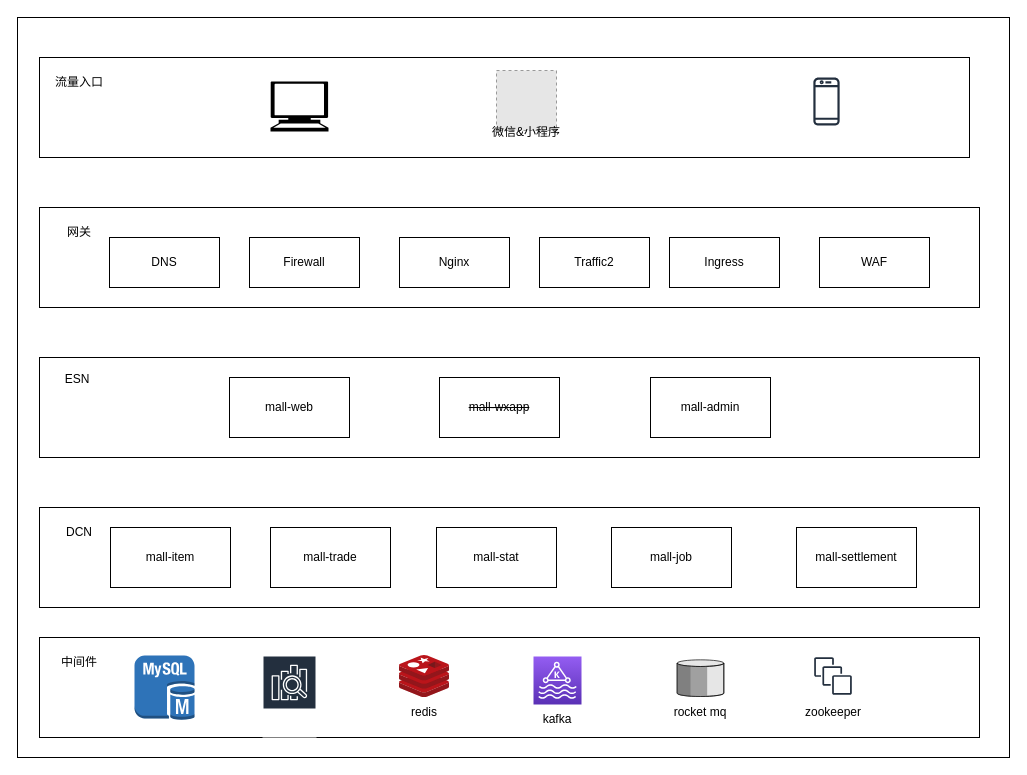
This 1027x775 diagram has some shape labels left out. Grey dashed boxes stand in for pictures. The shapes that lost their labels are listed below. From the top down, each one's box as (x1, y1, x2, y2) in pixels, then its label:
(796, 70, 856, 132): Mobile client
(262, 654, 316, 738): Amazon Elasticsearch Service
